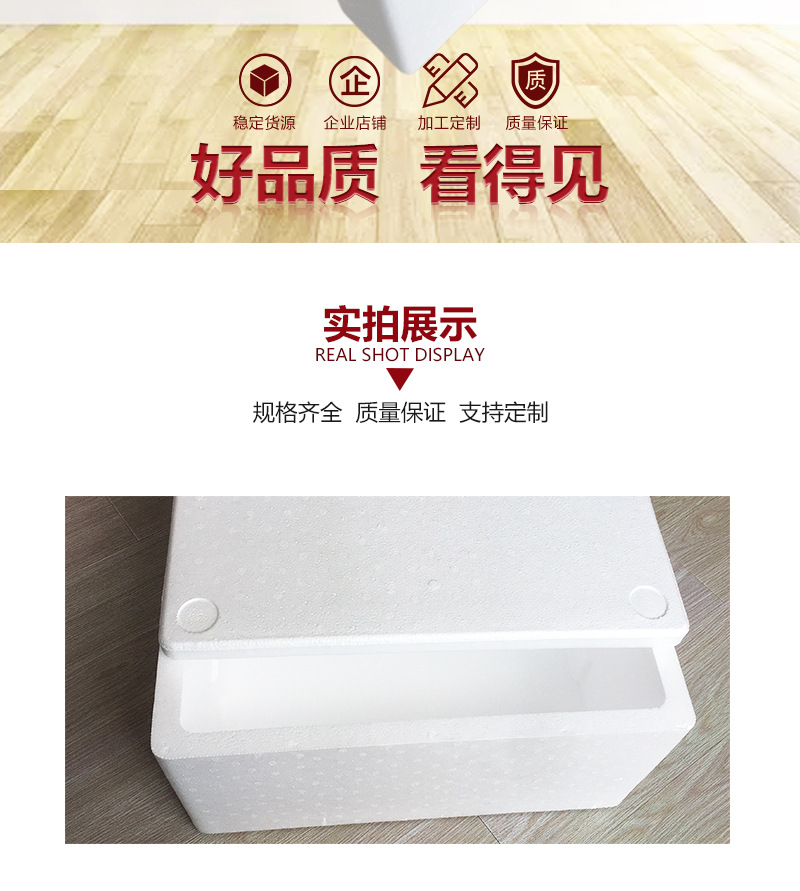Boxes: (151, 496, 695, 832)
